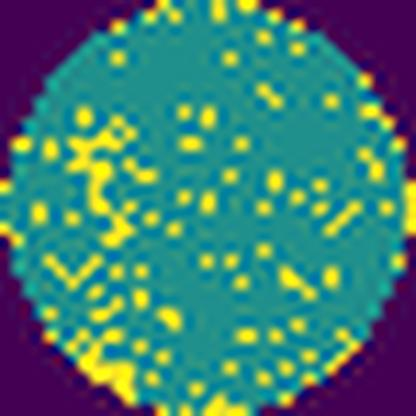Loc: (62, 113, 139, 245), (82, 330, 138, 401)
